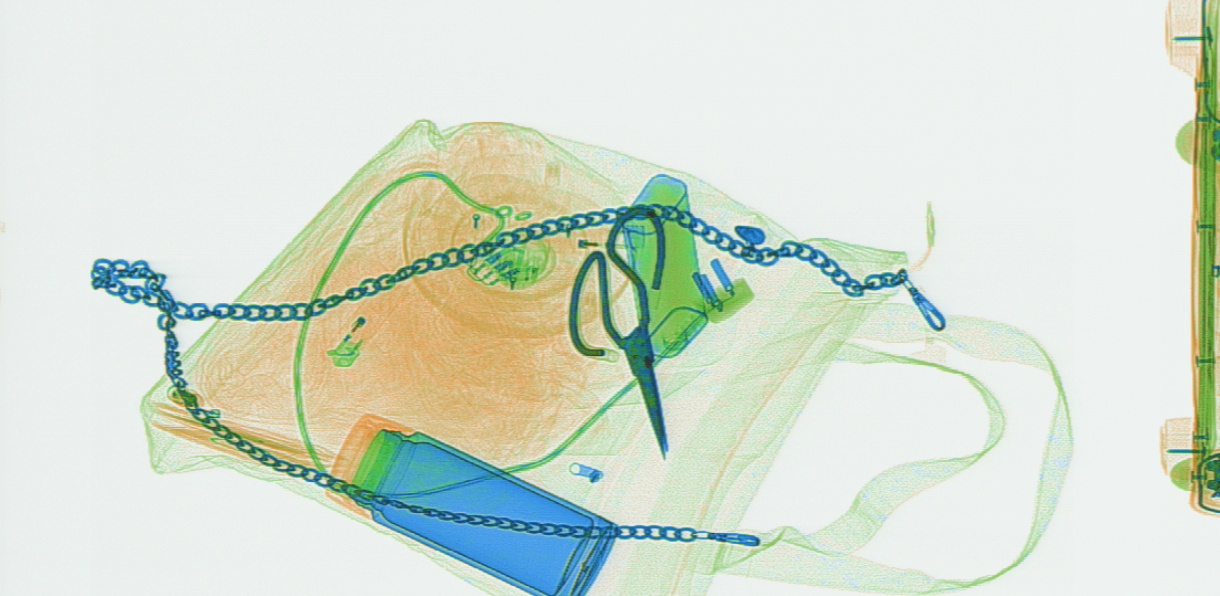lighter: (323, 270, 411, 367), (523, 211, 646, 254)
scissors: (565, 202, 672, 458)
zippooil: (621, 171, 708, 357)
